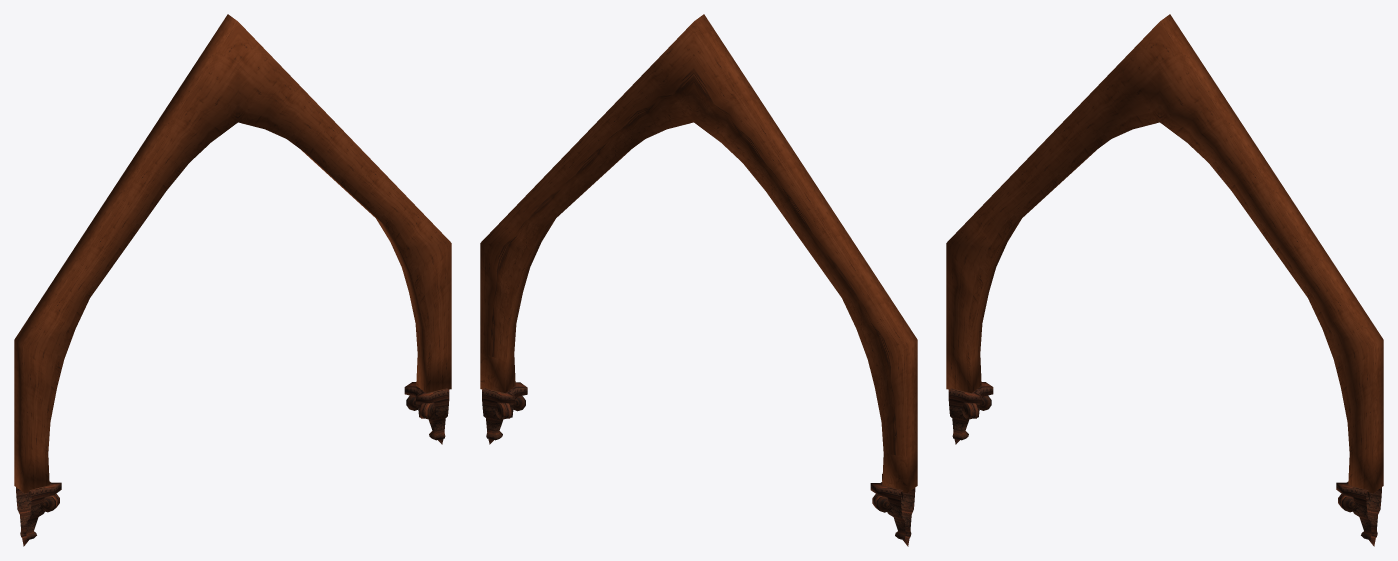
The model's file is Ceiling Beam_Single.fbx.
3 renders of one model, left to right at view 1: azimuth 30°, elevation 25°; view 2: azimuth 150°, elevation 25°; view 3: azimuth 330°, elevation 25°, orthographic.
Visible parts, largest first — view 1: BeamCeiling.000; view 2: BeamCeiling.000; view 3: BeamCeiling.000.
Part boxes in pixels (box(x1,y1,x2,y2)): BeamCeiling.000: box(14, 14, 451, 546); BeamCeiling.000: box(480, 14, 917, 546); BeamCeiling.000: box(946, 14, 1383, 546).
Size of the model in its own units: 882 by 944 by 68.49.
